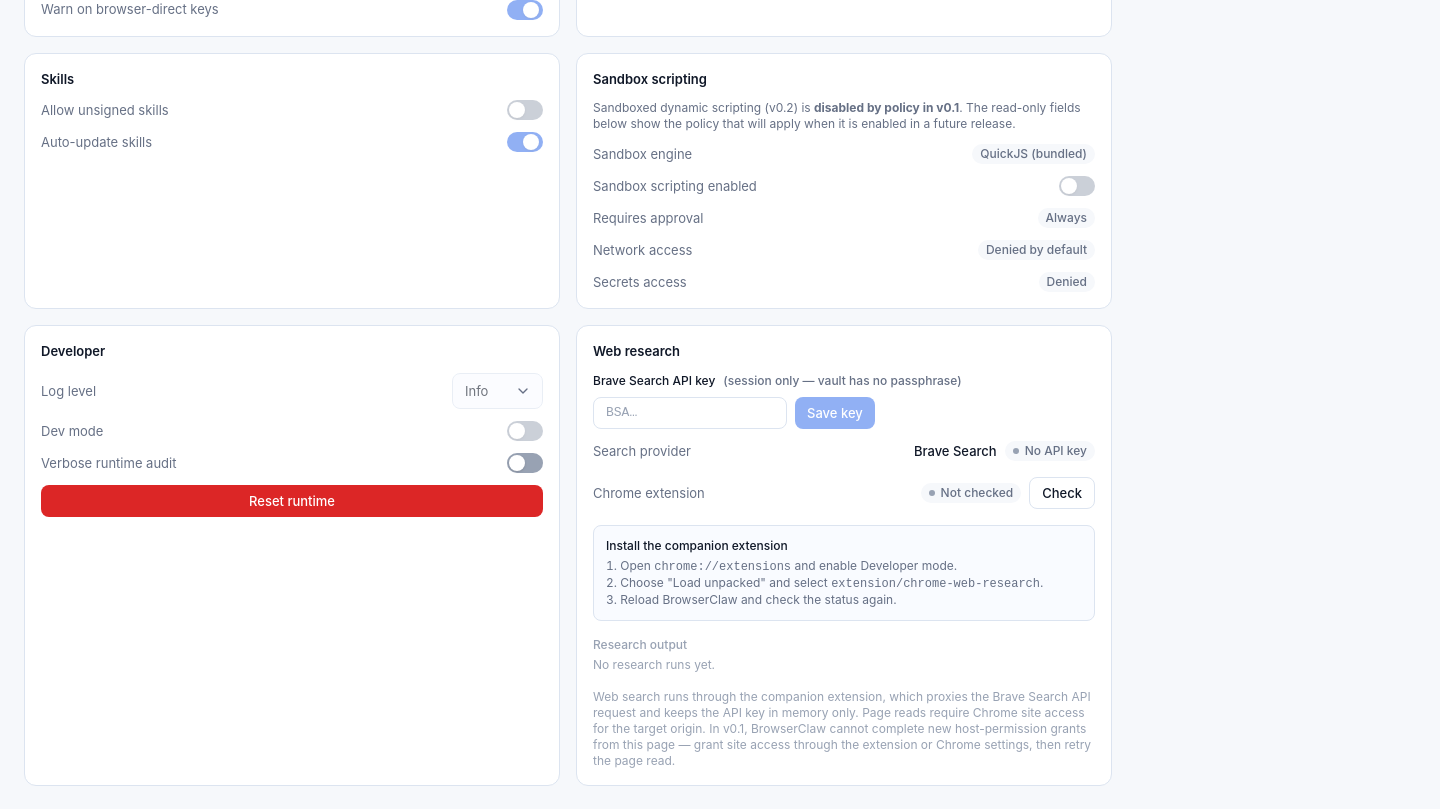
Test: C1 (FIX5) — capability status wired into SettingsScreen › C1: connected ext + no key → Connected row, Not ready live search
(page scrolled)
Click the button "Check". click: (1062, 493)
box: [1029,477,1095,509]
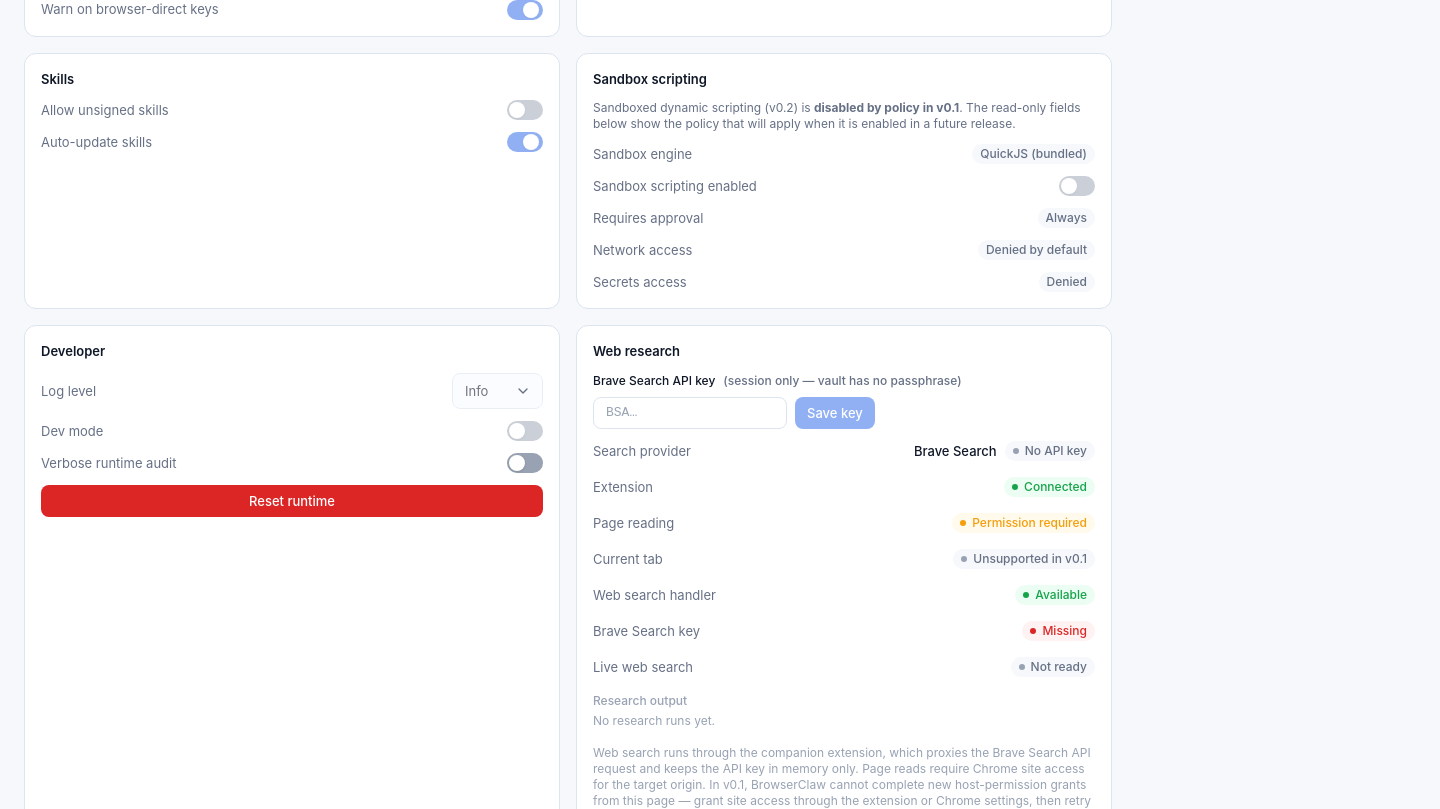
Expected: the text "Connected" is shown, [1004,477,1095,497]
Expected: the text "Not ready" is shown, [1011,657,1095,677]
